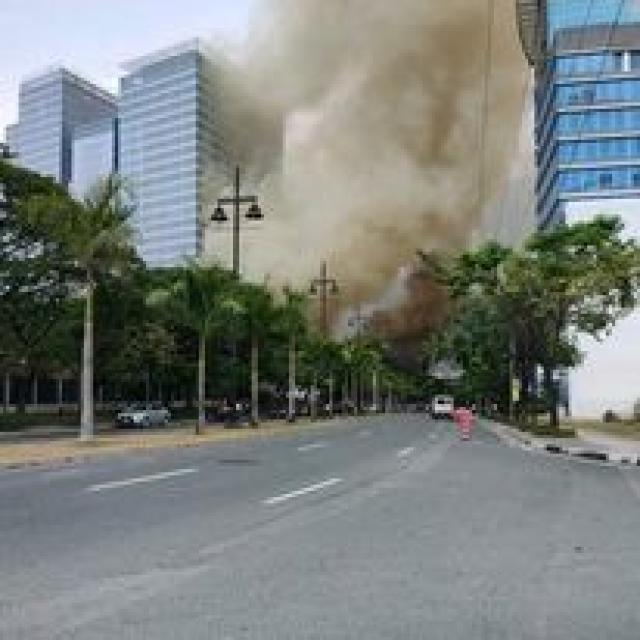Smoke: (194, 1, 536, 329)
